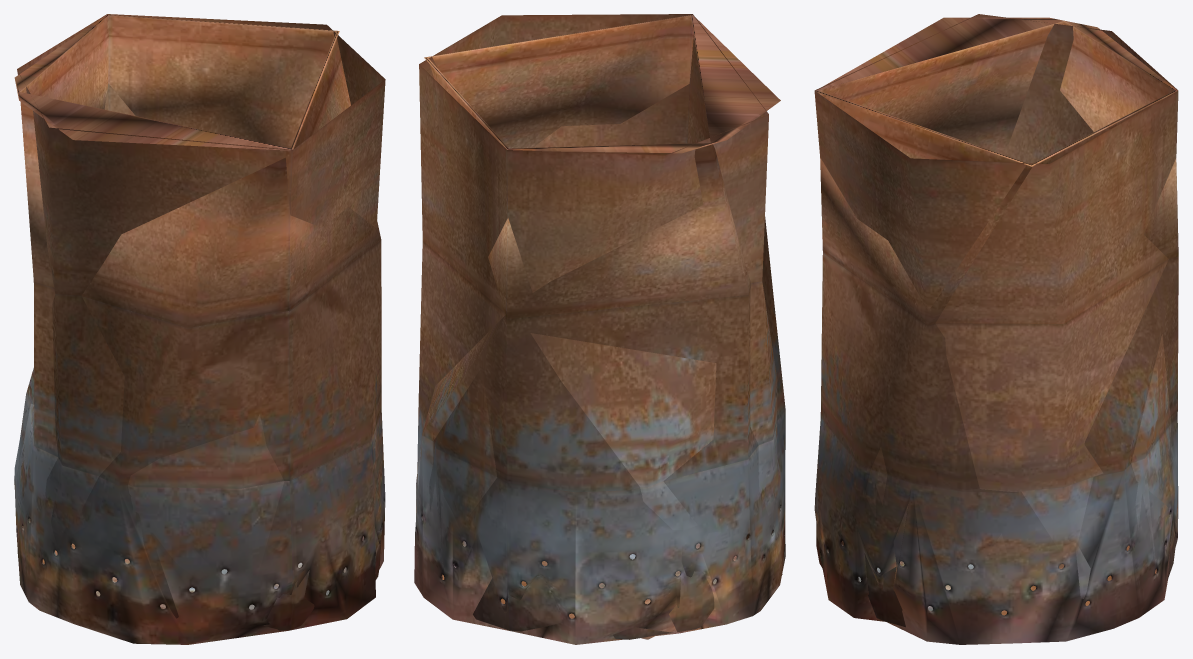
Rendered from barrel_stove.glb.
The picture shows the model from 3 angles, left to right: view 1: azimuth 30°, elevation 25°; view 2: azimuth 150°, elevation 25°; view 3: azimuth 270°, elevation 25°; orthographic projection. The views are drawn at different scales.
Parts seen in each view (by area): view 1: barrel_stove; view 2: barrel_stove; view 3: barrel_stove.
Boxes of the visible parts, x1,y1,x2,y2 form: barrel_stove: (14, 14, 385, 644); barrel_stove: (414, 14, 785, 644); barrel_stove: (814, 14, 1178, 644).
Bounding box in the file's own units: 0.5805 × 0.8399 × 0.5779.
1 material, 1 textured.
